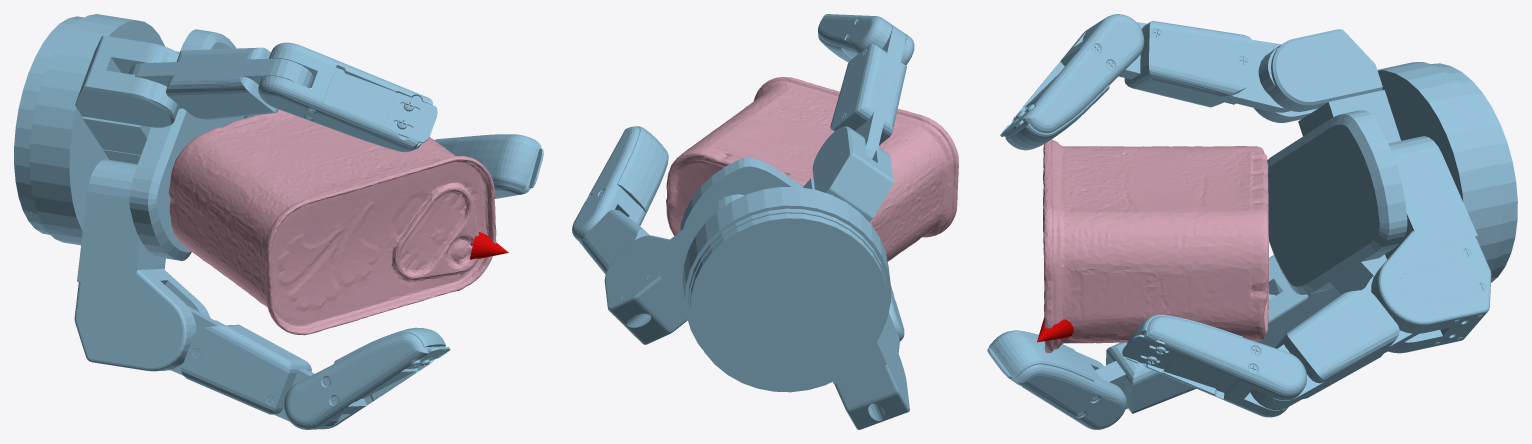
3 renders of one model, left to right at view 1: azimuth 30°, elevation 25°; view 2: azimuth 150°, elevation 25°; view 3: azimuth 270°, elevation 25°, orthographic. The views are drawn at different scales.
Parts seen in each view (by area): view 1: world, potted_meat_can.stl; view 2: world, potted_meat_can.stl; view 3: world, potted_meat_can.stl.
Part boxes in pixels (left/top/right/bottom): world: left=14, top=14, right=543, bottom=429; potted_meat_can.stl: left=168, top=109, right=496, bottom=335; world: left=572, top=14, right=914, bottom=429; potted_meat_can.stl: left=666, top=77, right=958, bottom=261; world: left=987, top=14, right=1517, bottom=429; potted_meat_can.stl: left=1043, top=139, right=1268, bottom=352.
Size of the model in its own units: 0.1819 by 0.1633 by 0.1961.
